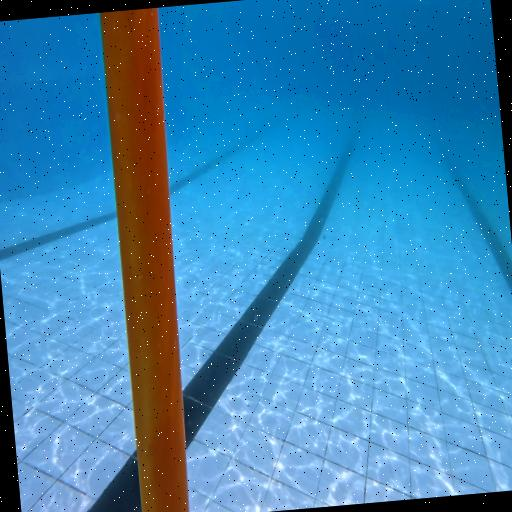pole_gate: (98, 7, 202, 512)
